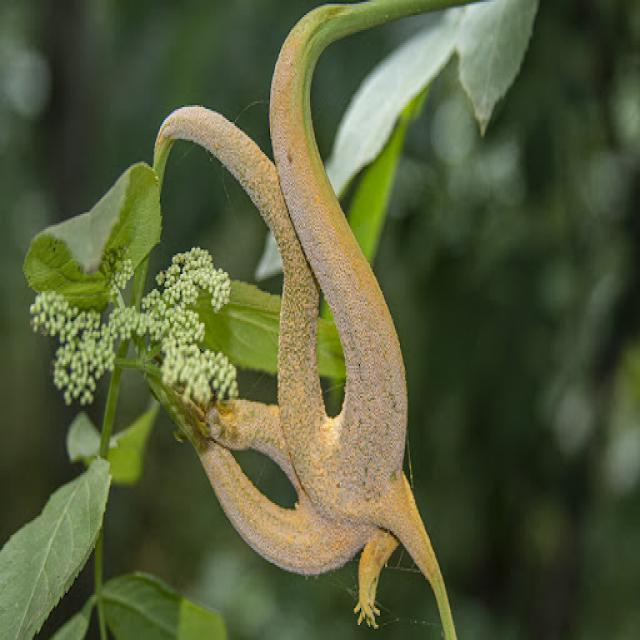Elderberry_rust: (131, 51, 485, 640)
